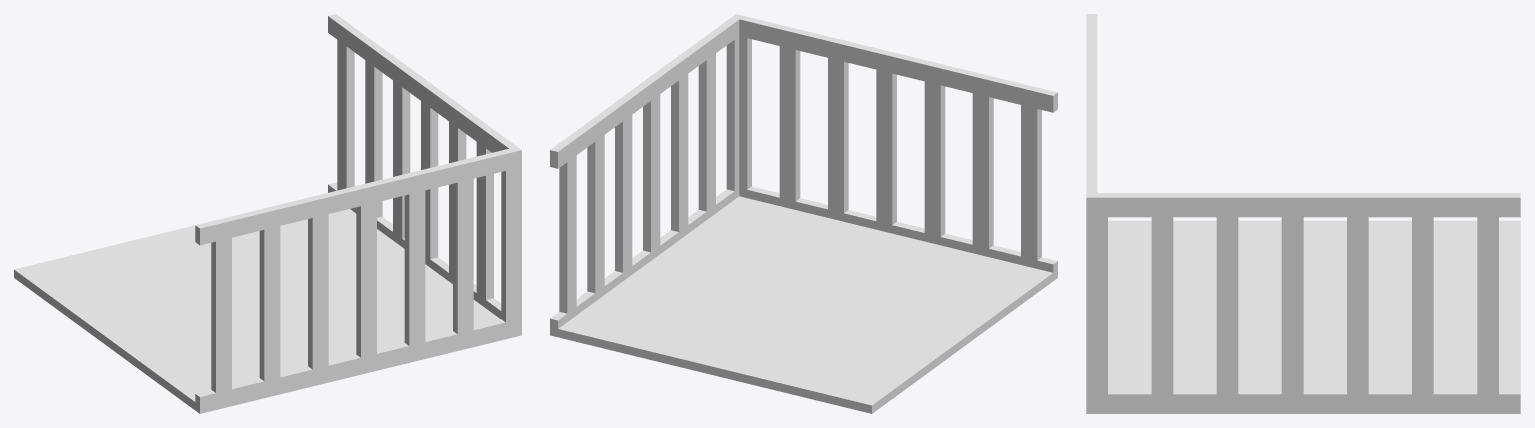
Rendered from fence_002.obj.
The picture shows the model from 3 angles, left to right: view 1: azimuth 30°, elevation 25°; view 2: azimuth 150°, elevation 25°; view 3: azimuth 270°, elevation 25°; orthographic projection. The views are drawn at different scales.
Size of the model in its own units: 4 by 2.2 by 4.
1 material, 1 textured.
